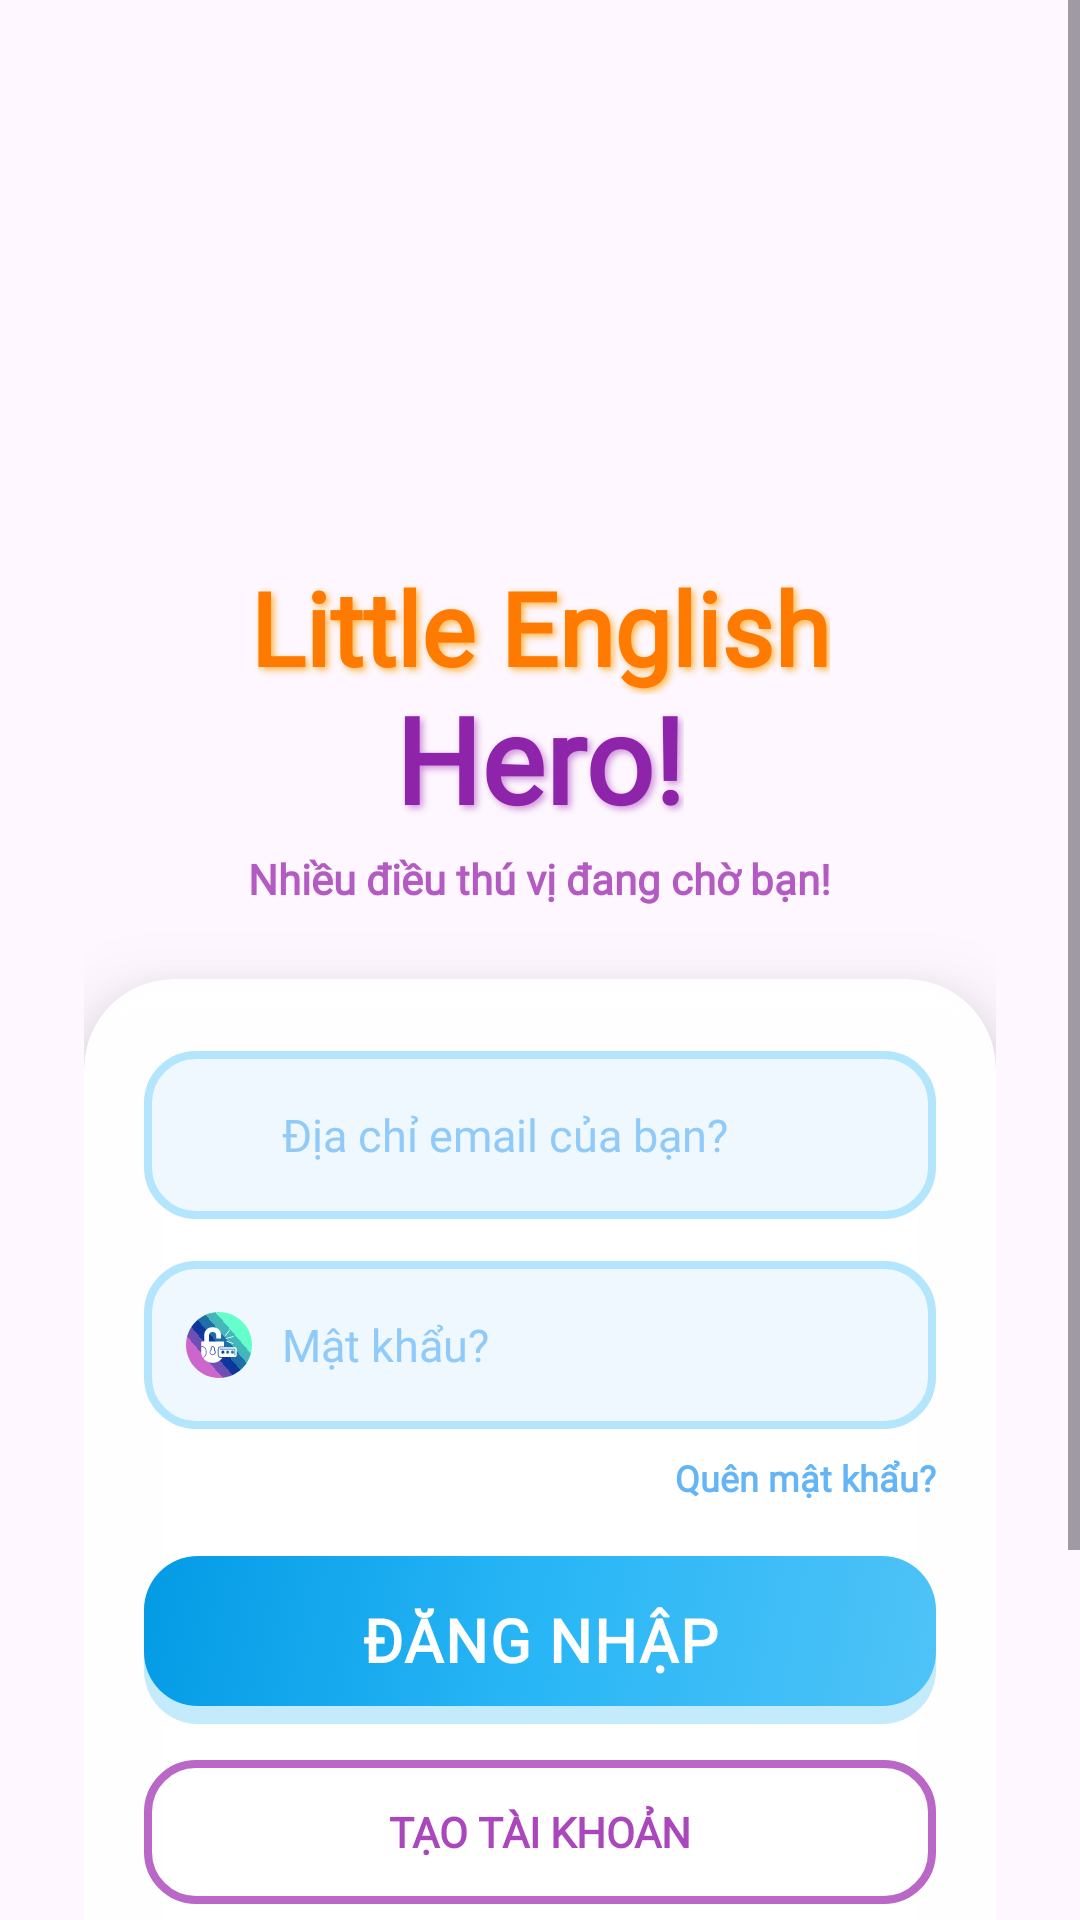

Locate icon controls on the screen. Image size 1080w x 1920h, boxes as box=[x1, y1, x2, y2].
password: box=[186, 1312, 252, 1378]
